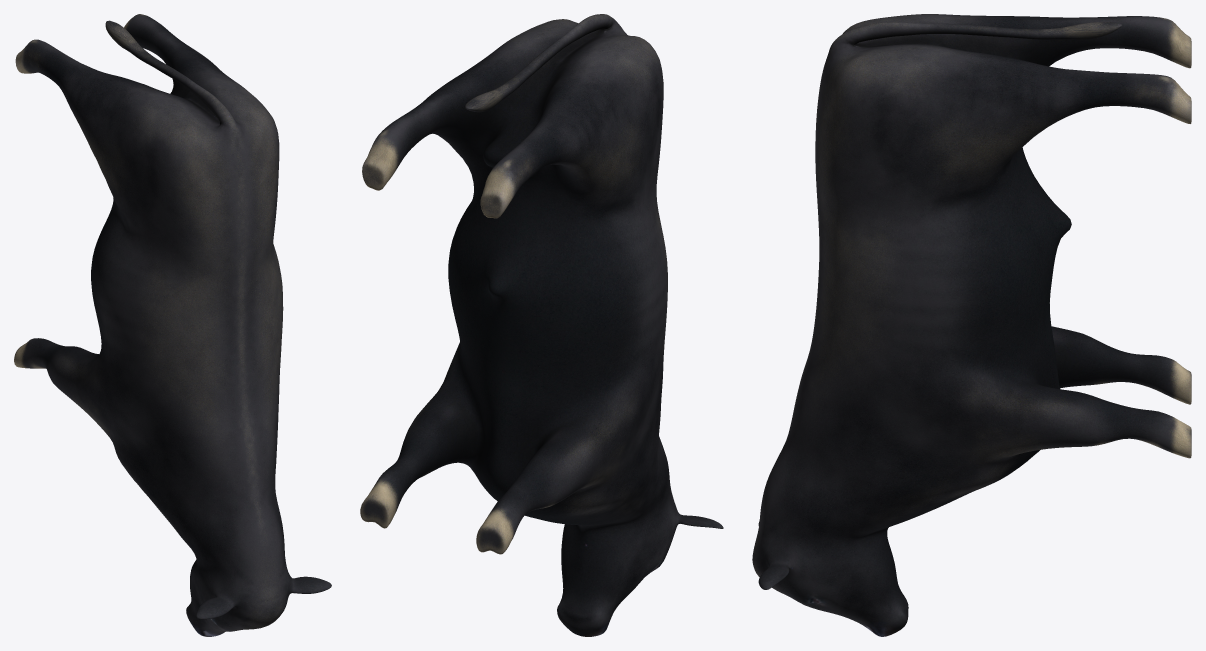
Rendered from 13086_Black_Angus_v3_l2.obj.
The picture shows the model from 3 angles, left to right: view 1: azimuth 30°, elevation 25°; view 2: azimuth 150°, elevation 25°; view 3: azimuth 270°, elevation 25°; orthographic projection. The views are drawn at different scales.
Visible parts, largest first — view 1: 13086_Black_Angus_v2; view 2: 13086_Black_Angus_v2; view 3: 13086_Black_Angus_v2.
Boxes of the visible parts, box(x1,y1,x2,y2) form: 13086_Black_Angus_v2: box(14, 14, 331, 636); 13086_Black_Angus_v2: box(360, 14, 723, 636); 13086_Black_Angus_v2: box(752, 14, 1191, 636).
Bounding box in the file's own units: 28.63 × 91.89 × 59.82.
1 material, 1 textured.
